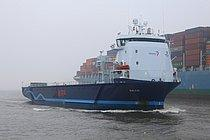Ship: (21, 16, 186, 115), (20, 18, 22, 19)
